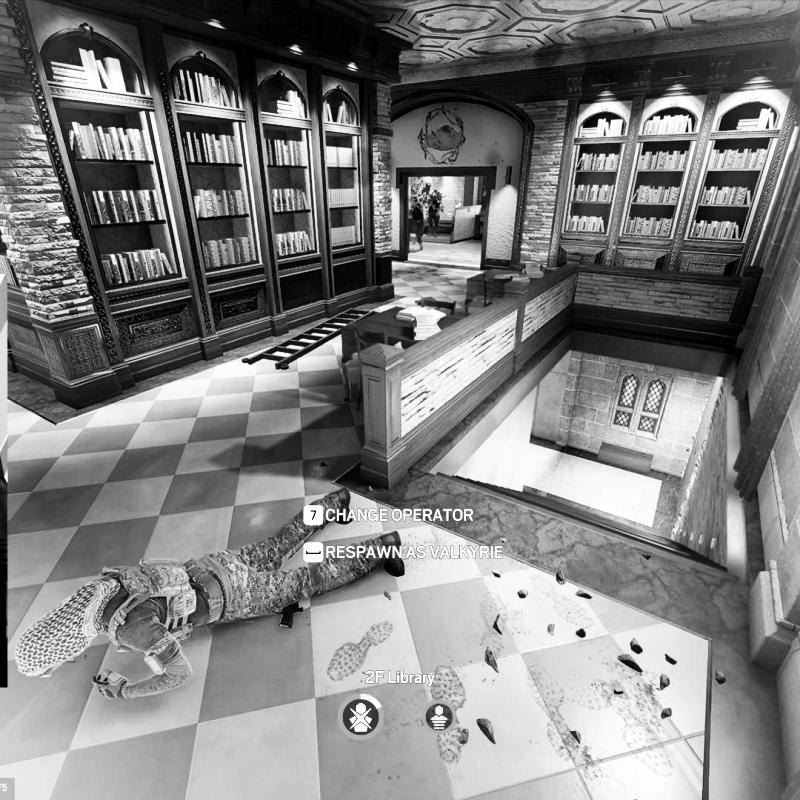Character: (0, 485, 408, 701), (409, 196, 426, 251), (427, 194, 443, 239)
Head: (15, 583, 105, 681), (412, 198, 419, 206), (437, 196, 442, 202)
